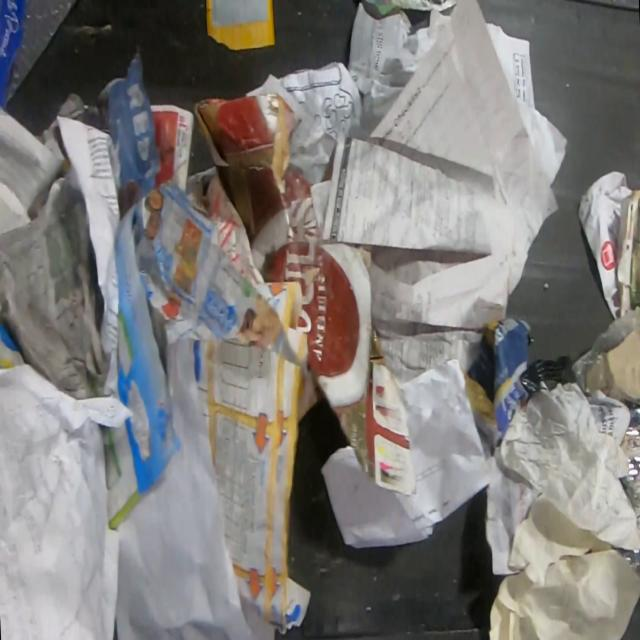cardboard: (192, 92, 416, 498), (462, 314, 533, 457), (586, 330, 640, 404), (614, 548, 640, 575)
rigid_plastic: (618, 402, 640, 530), (519, 353, 575, 395)
soft_plastic: (570, 303, 640, 394)
